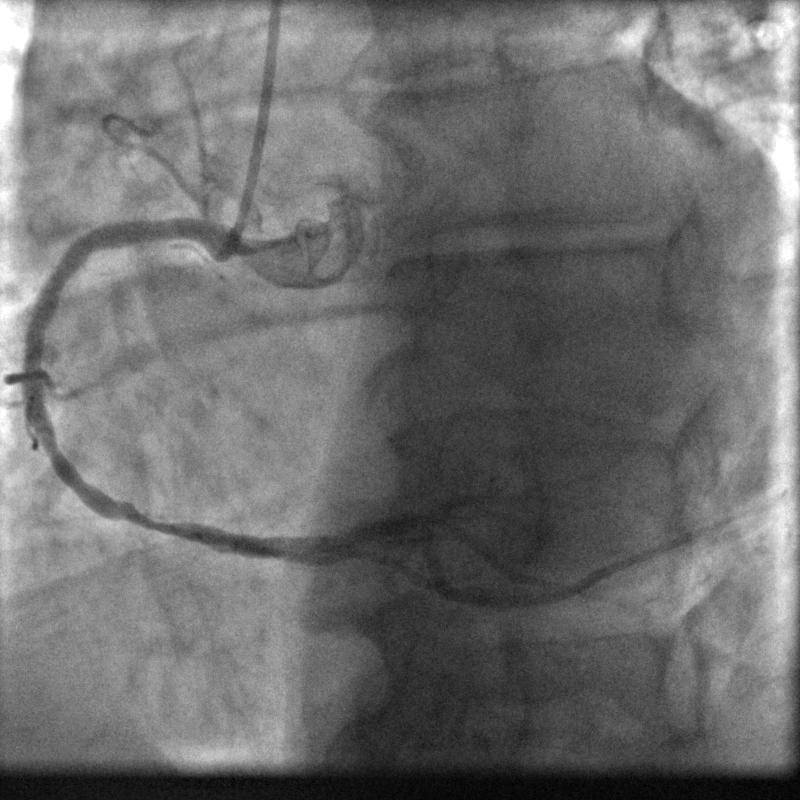Stenosis: (113, 500, 182, 542)
